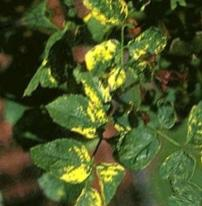Tomato leaf mosaic virus: (24, 132, 94, 191), (42, 88, 105, 149), (112, 121, 166, 174), (119, 19, 172, 64), (152, 143, 202, 188), (174, 94, 202, 151), (149, 95, 179, 133)
